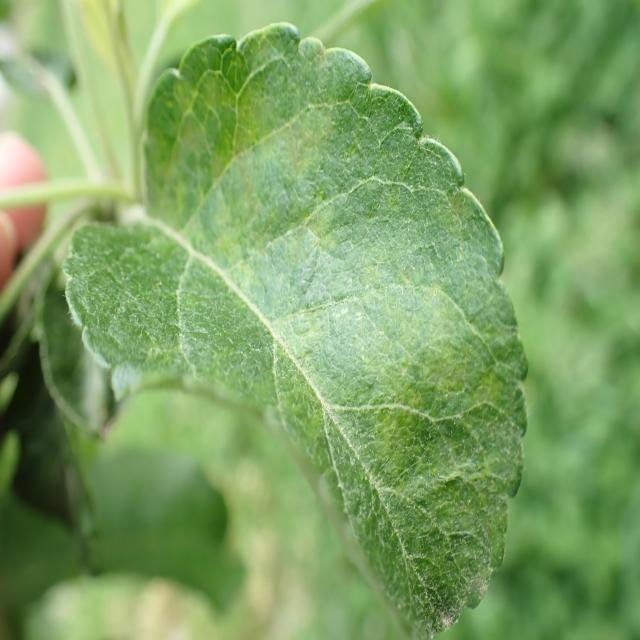scab: (123, 46, 498, 584)
